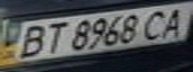6: (103, 12, 127, 47)
8: (118, 11, 148, 44), (66, 17, 93, 52)
9: (87, 16, 112, 50)
A: (154, 4, 193, 38)
B: (9, 22, 51, 60)
C: (136, 7, 175, 42)
T: (36, 20, 69, 55)
